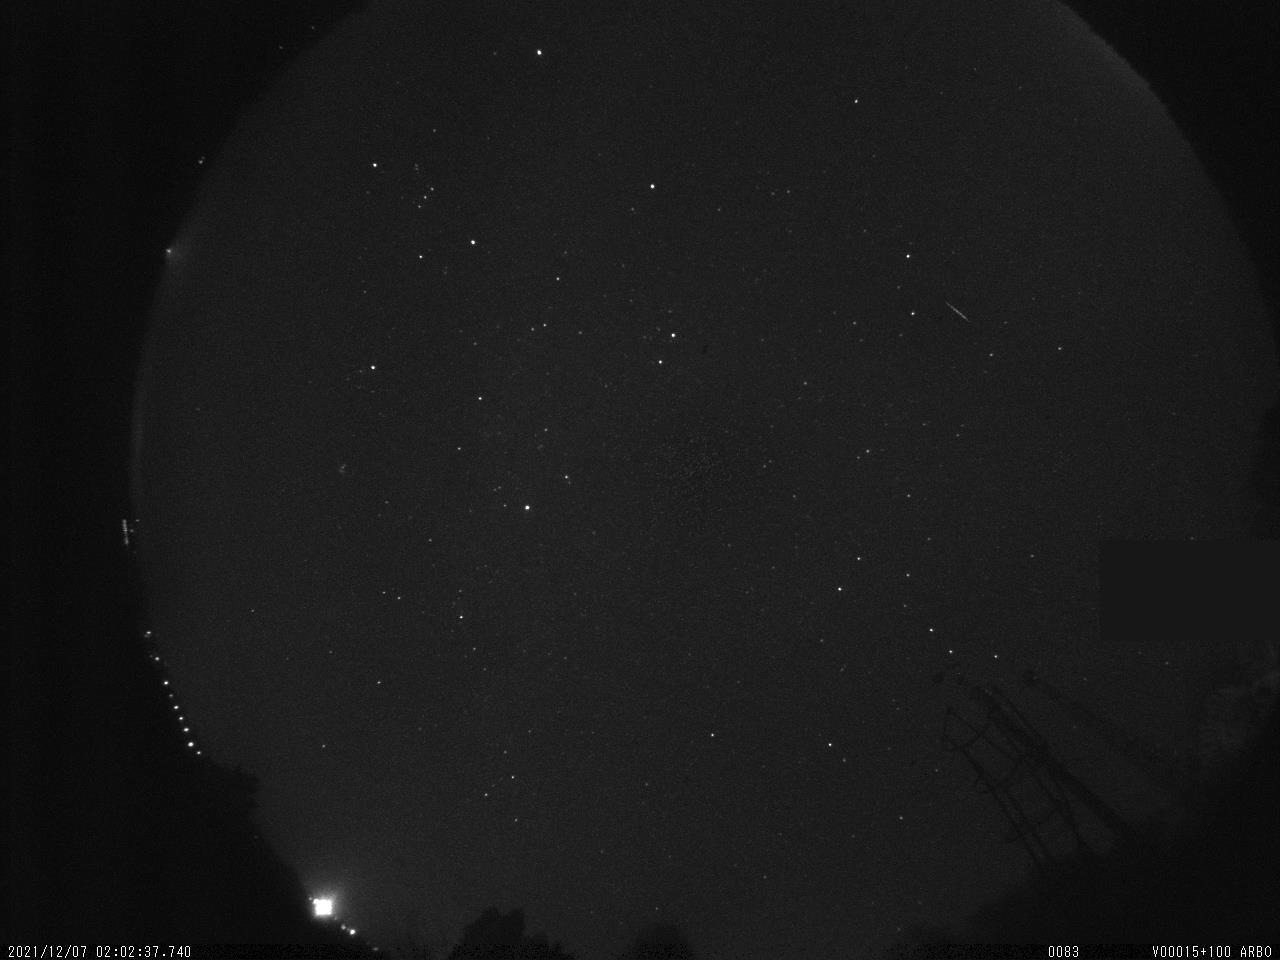meteor: (937, 288, 984, 326)
